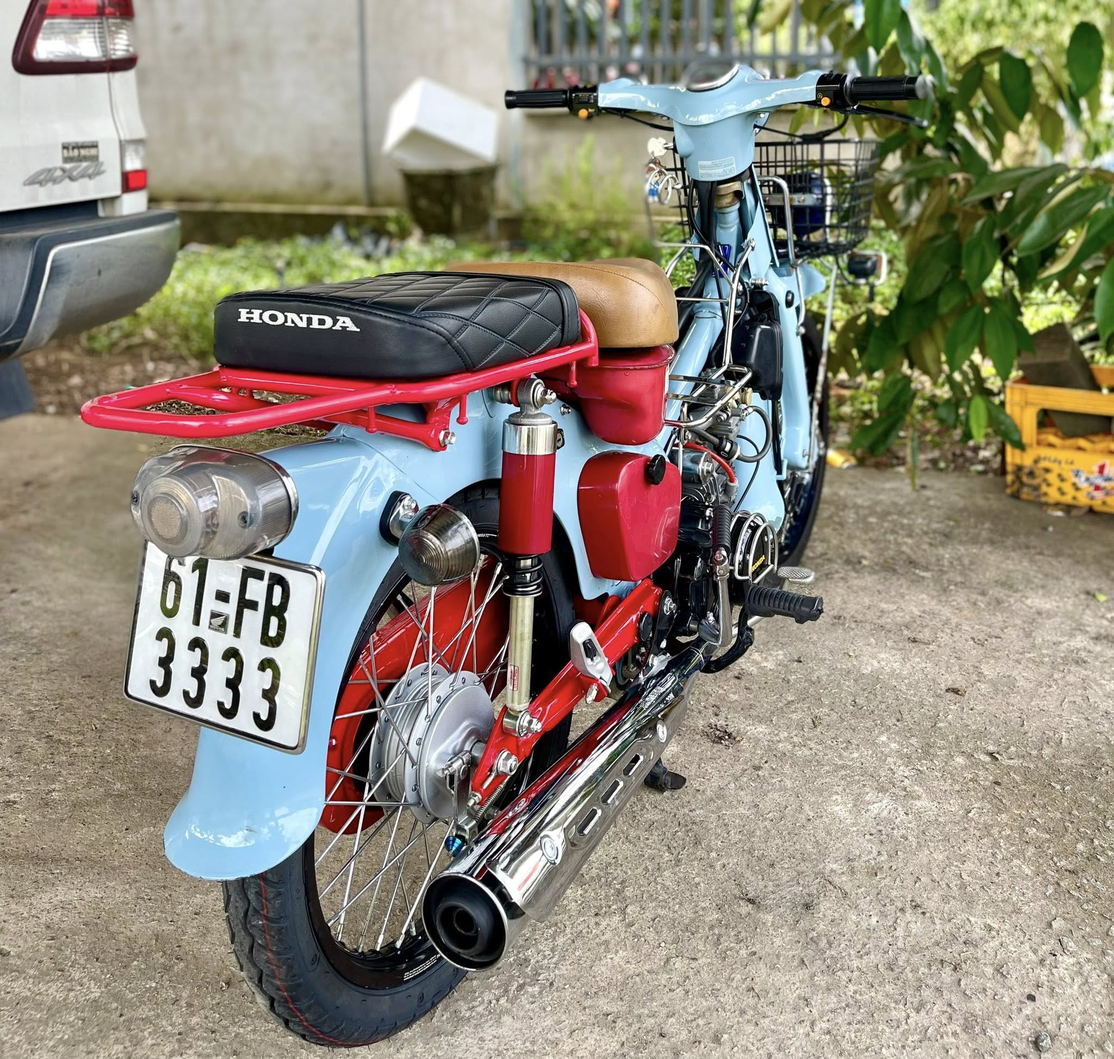bien_so: (119, 528, 334, 761)
